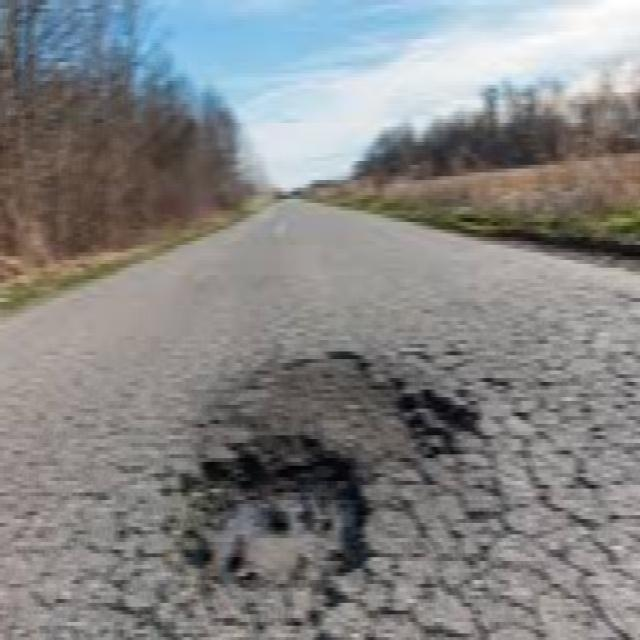Pothole: (166, 440, 384, 594), (239, 346, 485, 453)
